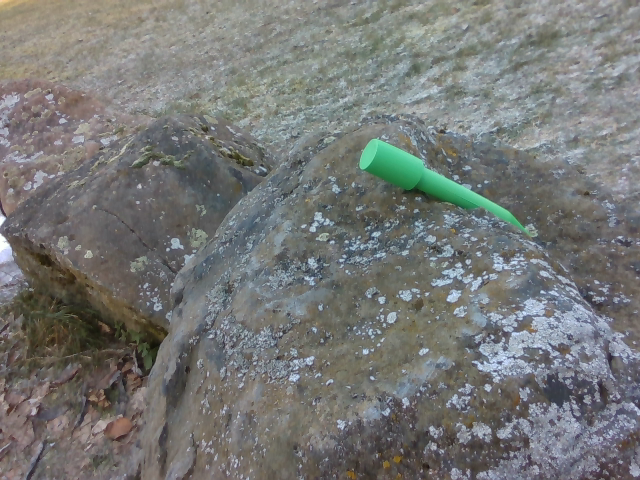Probe: (363, 139, 534, 240)
